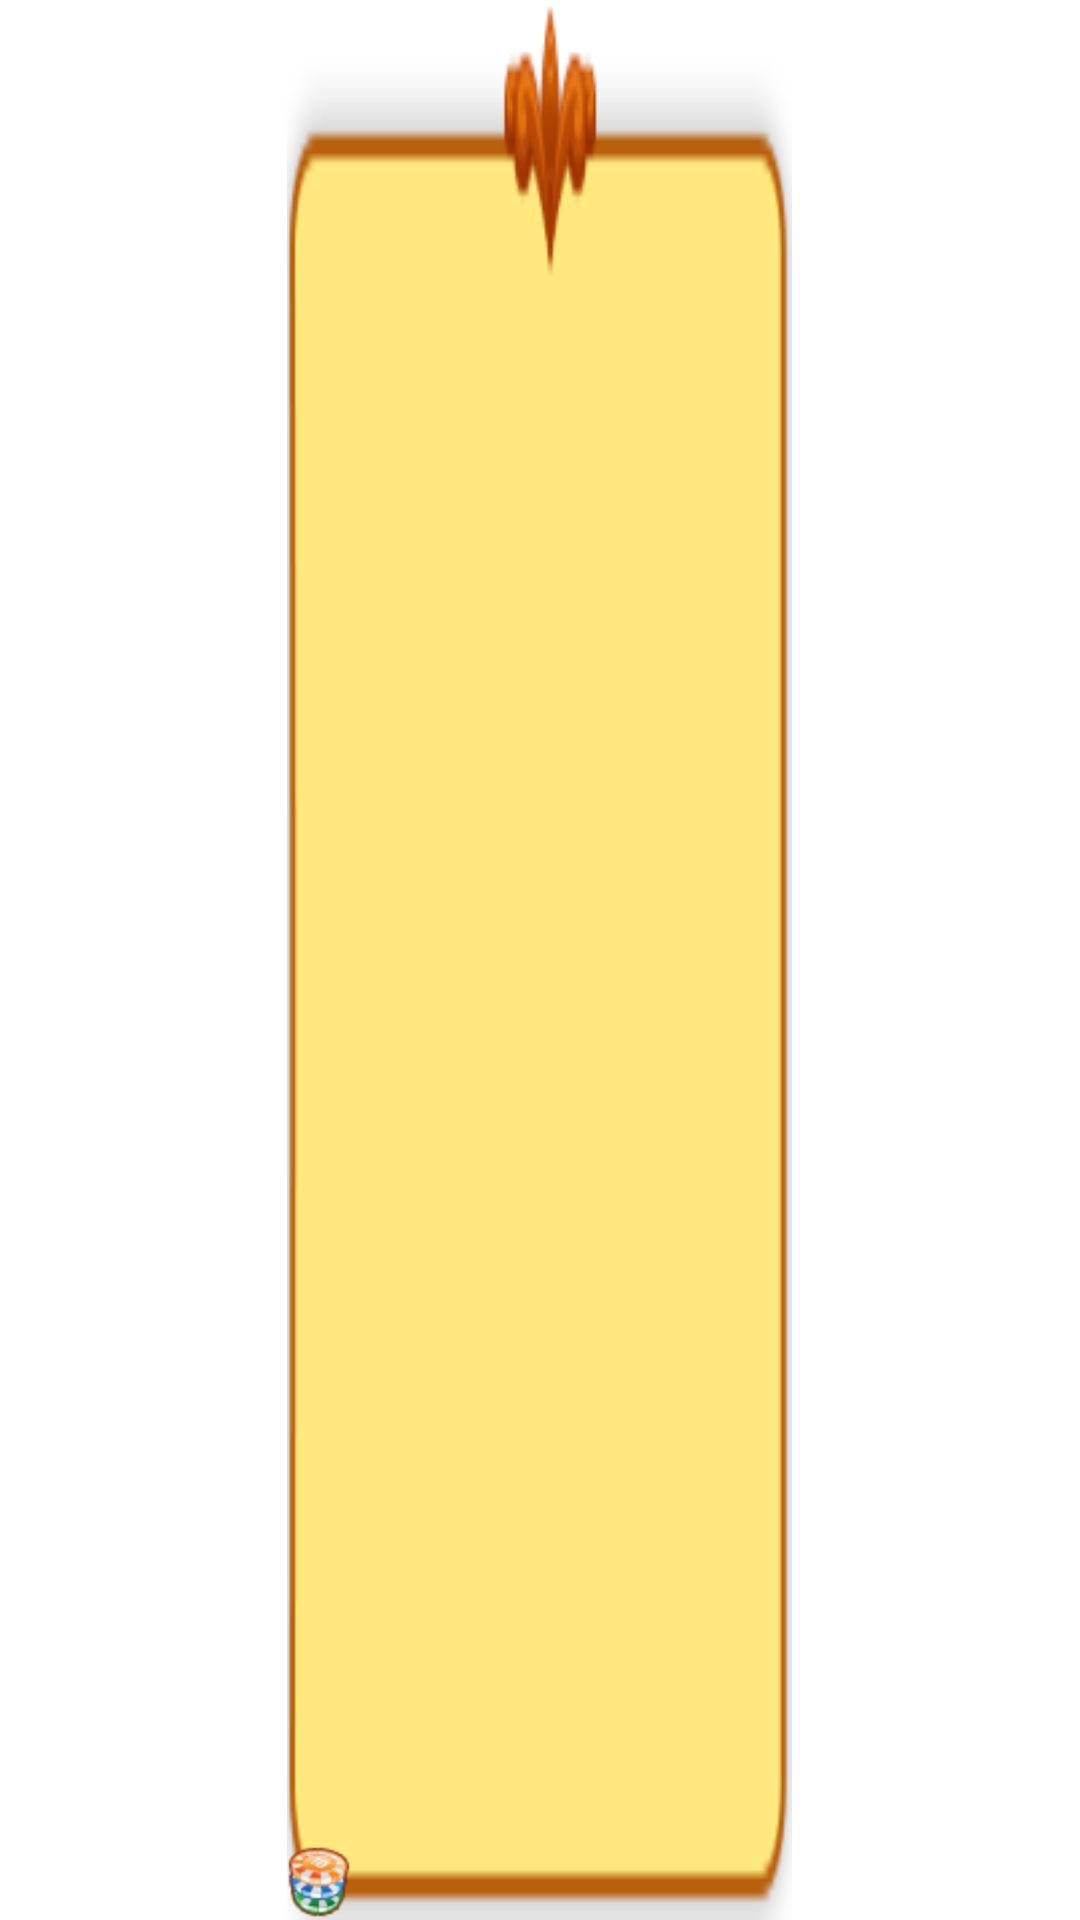

Screen size 1080x1920. Icon name, then its center in pixels as point (x, y):
market chip: point (319, 1882)
